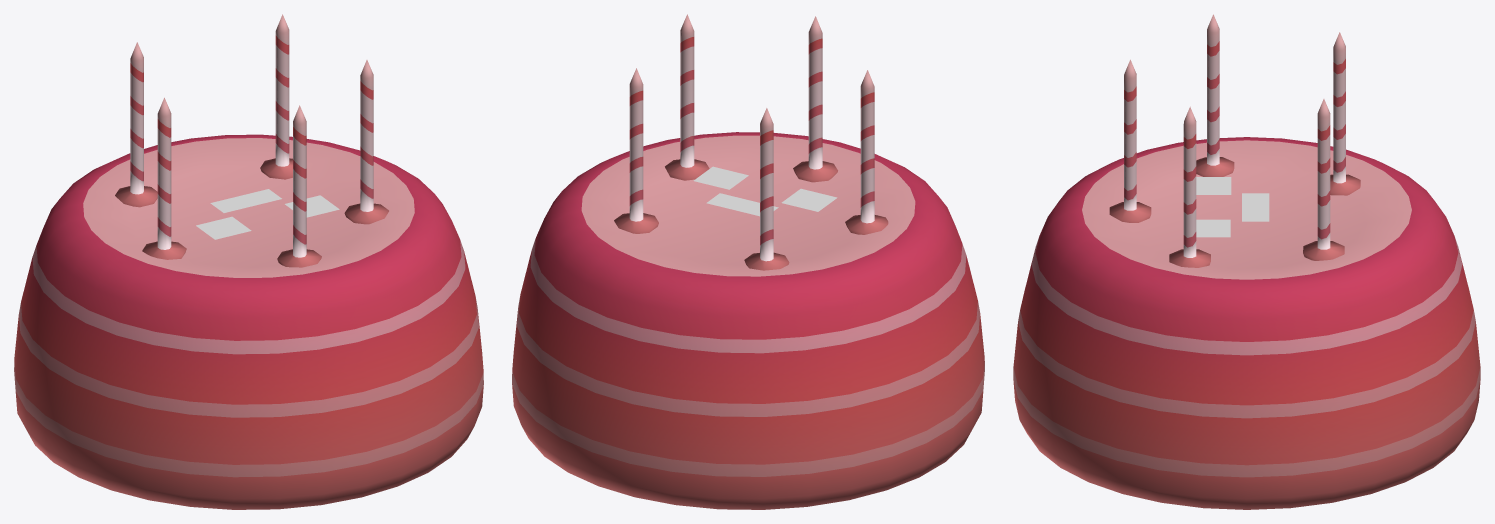
File: cake_candles_smile.fbx
3 renders of one model, left to right at view 1: azimuth 30°, elevation 25°; view 2: azimuth 150°, elevation 25°; view 3: azimuth 270°, elevation 25°, orthographic.
Parts seen in each view (by area): view 1: cake_candles_smile; view 2: cake_candles_smile; view 3: cake_candles_smile.
Part boxes in pixels (x1,y1,x2,y2): cake_candles_smile: (14,14,483,509); cake_candles_smile: (512,14,984,509); cake_candles_smile: (1013,14,1480,509).
Size of the model in its own units: 182 by 154 by 182.
2 materials, 1 textured.
